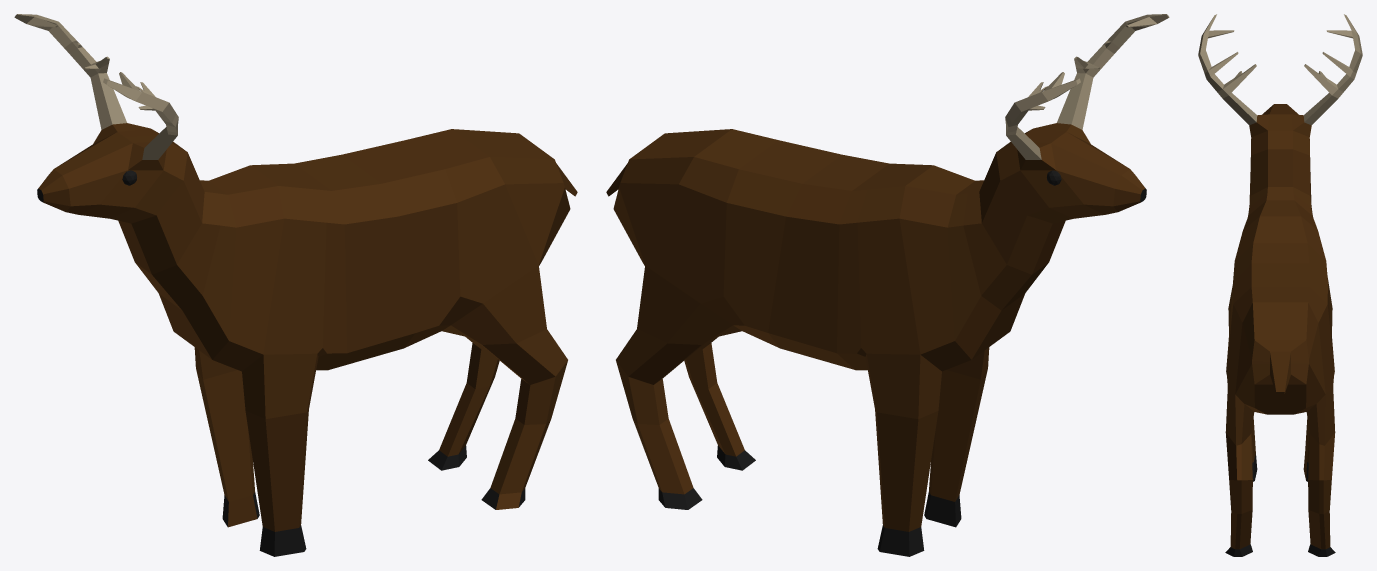
Rendered from deer.glb.
The picture shows the model from 3 angles, left to right: view 1: azimuth 30°, elevation 25°; view 2: azimuth 150°, elevation 25°; view 3: azimuth 270°, elevation 25°; orthographic projection. The views are drawn at different scales.
Parts seen in each view (by area): view 1: Cube; view 2: Cube; view 3: Cube.
Part boxes in pixels (<box>): Cube: <box>14,14,577,556</box>; Cube: <box>606,14,1169,556</box>; Cube: <box>1198,14,1362,556</box>.
Size of the model in its own units: 1.25 by 1.2 by 0.4595.
